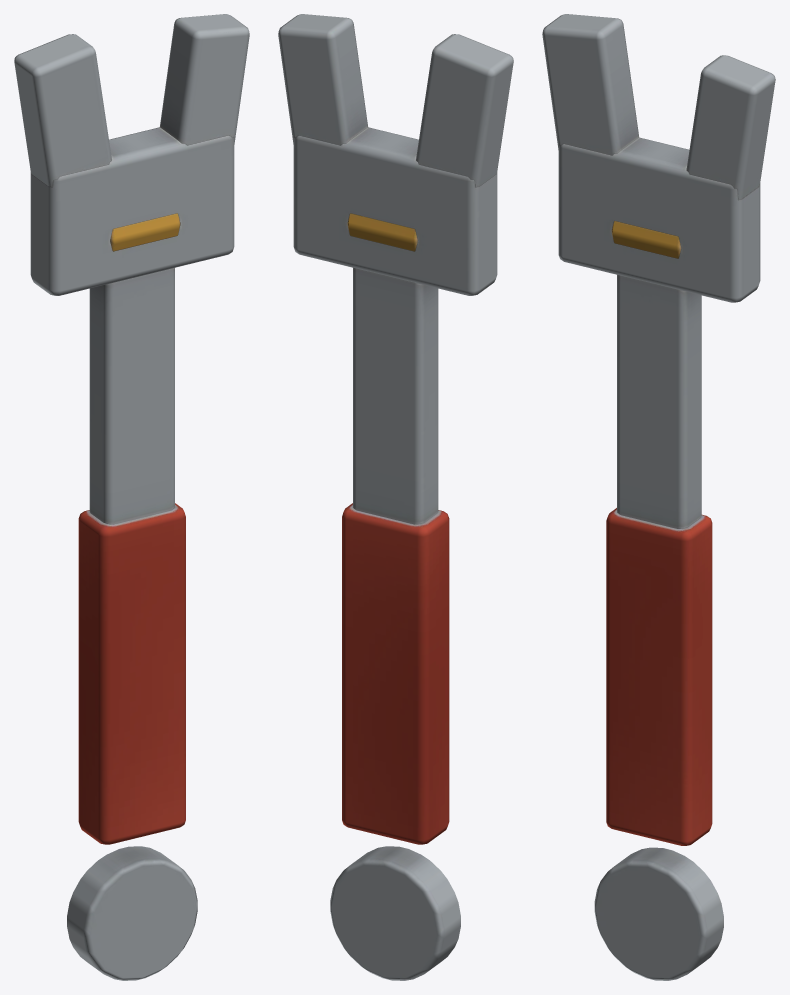
The model's file is wrench-v001.glb.
The picture shows the model from 3 angles, left to right: view 1: azimuth 30°, elevation 25°; view 2: azimuth 150°, elevation 25°; view 3: azimuth 330°, elevation 25°; orthographic projection.
Visible parts, largest first — view 1: Wrench; view 2: Wrench; view 3: Wrench.
Boxes of the visible parts, bbox=[...] form: Wrench: bbox=[14, 14, 249, 980]; Wrench: bbox=[278, 14, 513, 980]; Wrench: bbox=[542, 14, 775, 980].
Bounding box in the file's own units: 0.1351 × 0.5613 × 0.031.
Materials: 1 (1 with a texture image).
